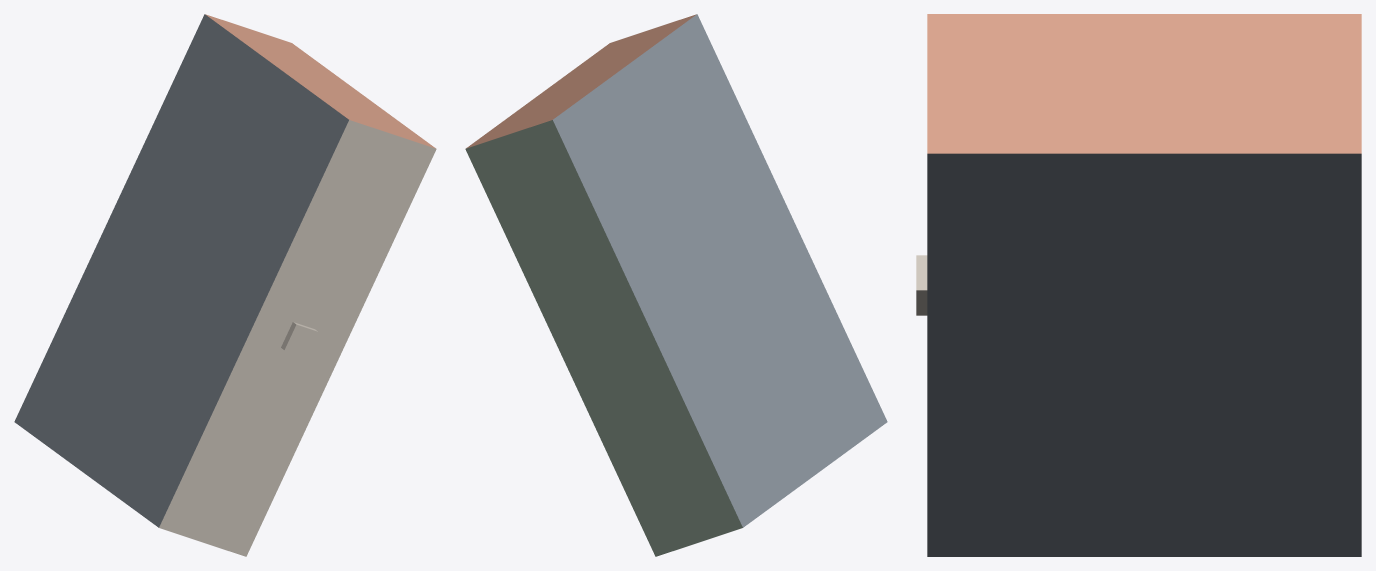
File: doitt-502491__lod_1.glb
3 views of the same model, side by side, from view 1: azimuth 30°, elevation 25°; view 2: azimuth 150°, elevation 25°; view 3: azimuth 270°, elevation 25° (orthographic). The views are drawn at different scales.
Size of the model in its own units: 21.47 by 30.43 by 19.85.
